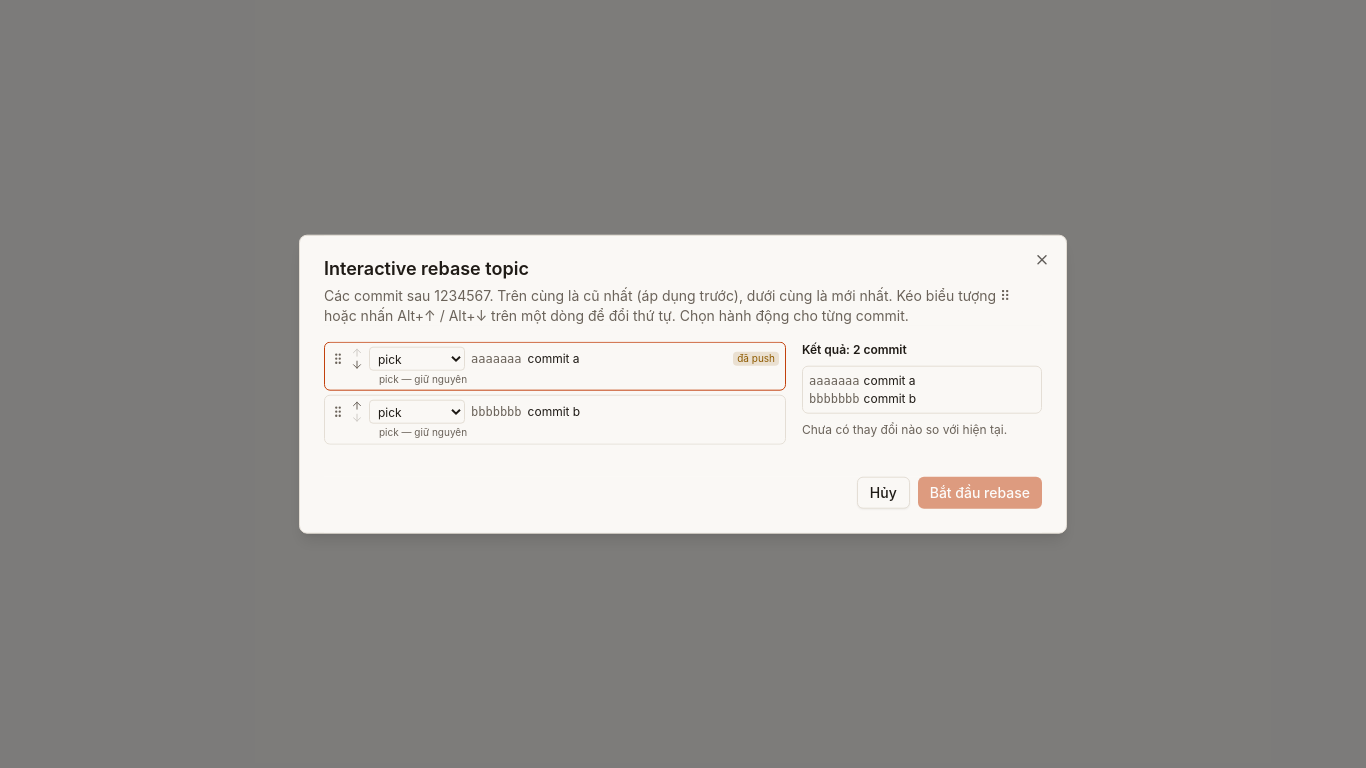
Test: InteractiveRebaseView › blocks squash on the first commit, empty messages and unconfirmed pushed rewrites
Step 1. Select "squash" in the dropdown named "Hành động cho aaaaaaa" → {"x": 417, "y": 359}, box [369, 347, 465, 371]
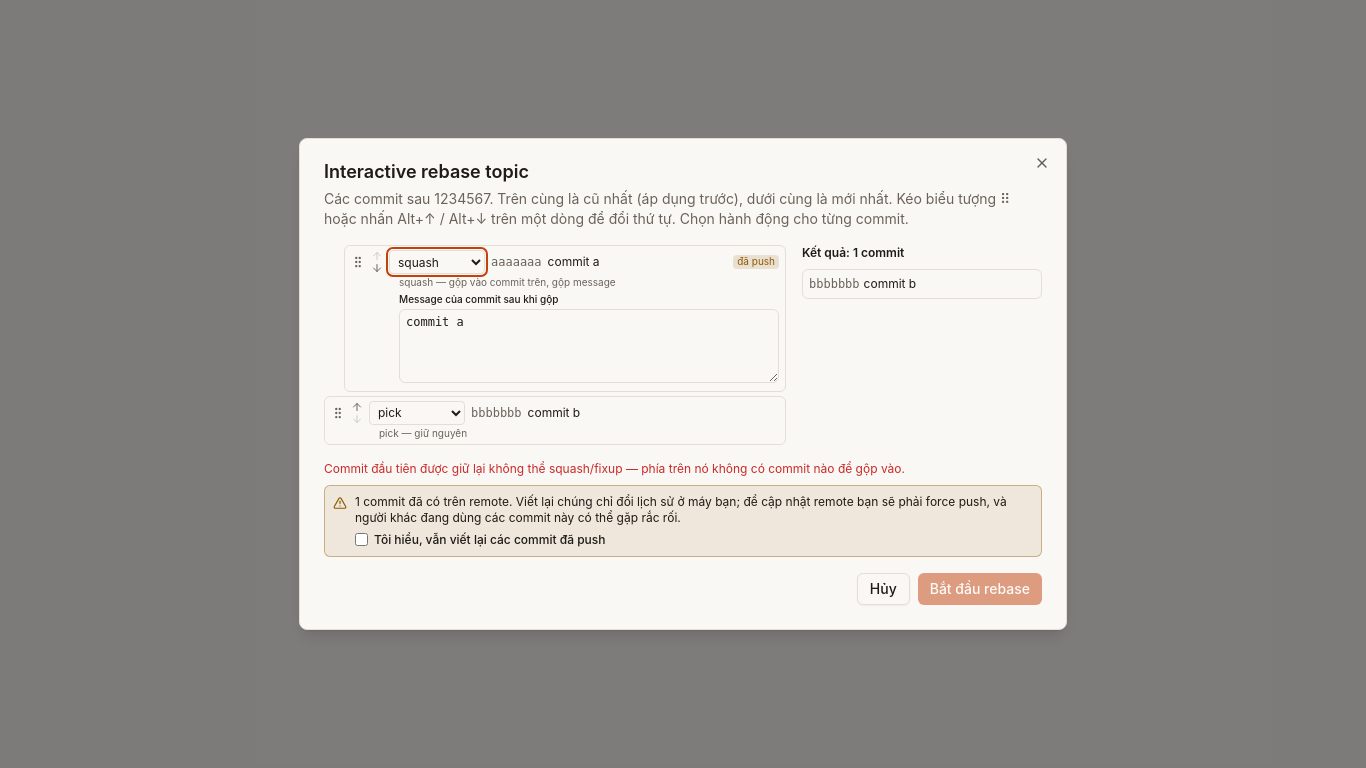
Expected: the button "Bắt đầu rebase" is disabled, [918, 573, 1042, 605]
Expected: the message shows "không thể squash", [324, 461, 905, 476]
Touching the pushed commit asks for confirmation.
Step 2. Select "reword" in the dropdown named "Hành động cho aaaaaaa" → {"x": 437, "y": 262}, box [389, 250, 485, 274]
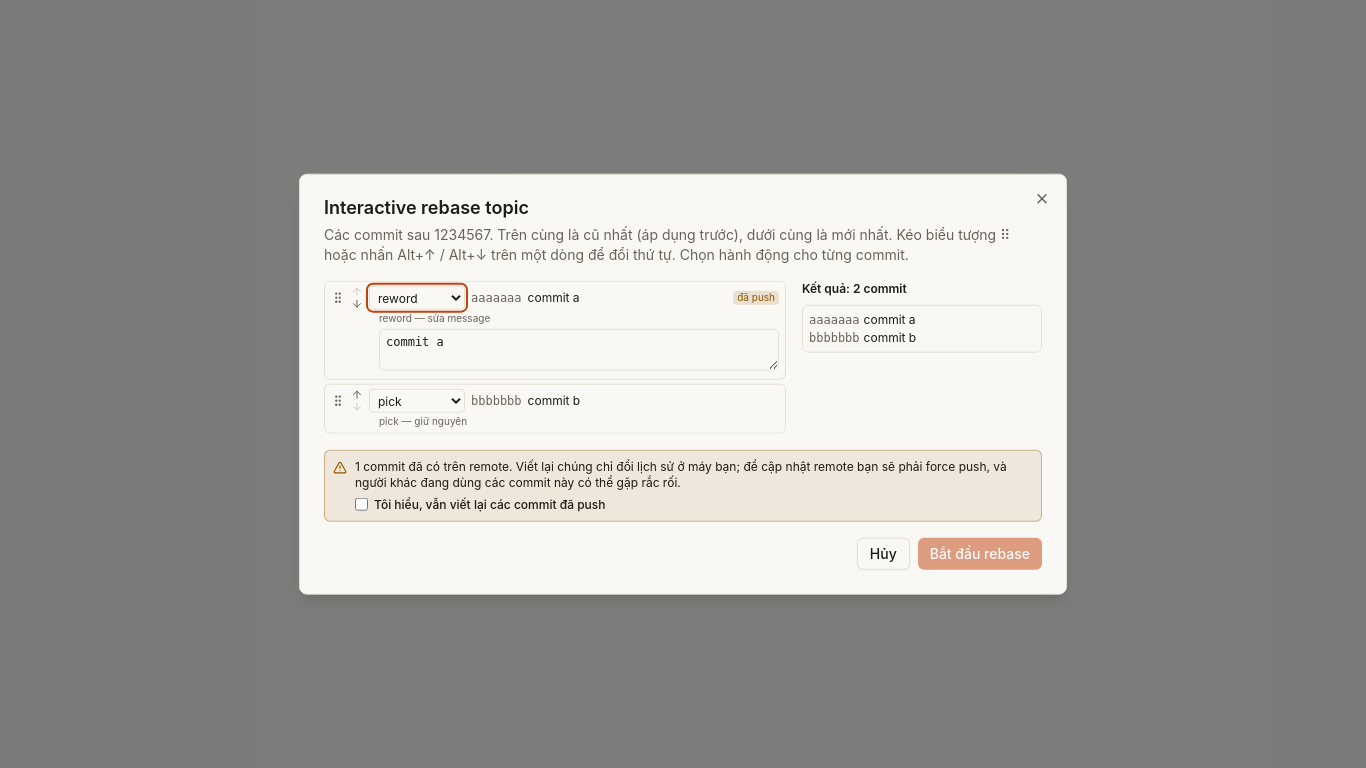
Step 3. Clear the text box named "Message mới cho aaaaaaa" → {"x": 579, "y": 350}, box [379, 329, 779, 371]
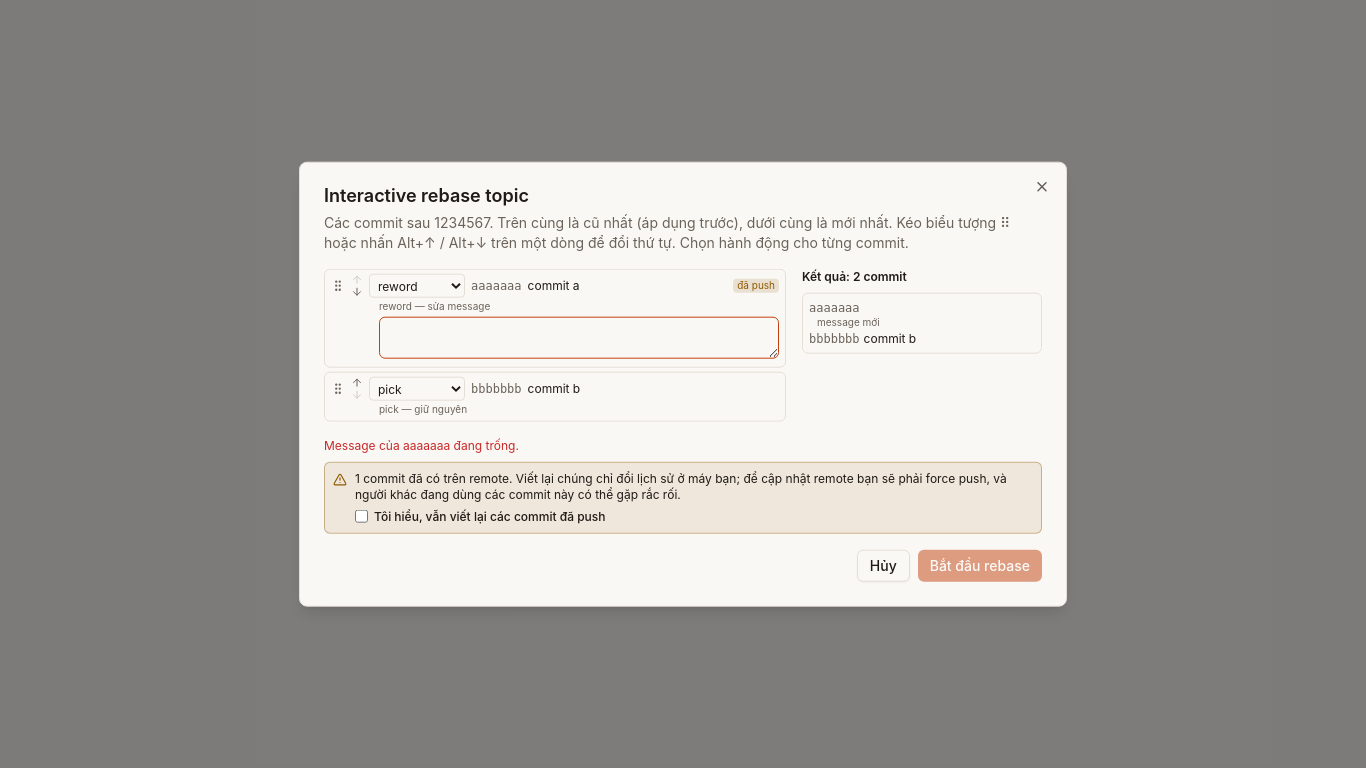
Expected: the message shows "đang trống", [324, 437, 519, 452]
Step 4. Type "A" into the text box named "Message mới cho aaaaaaa" → {"x": 579, "y": 338}, box [379, 317, 779, 359]
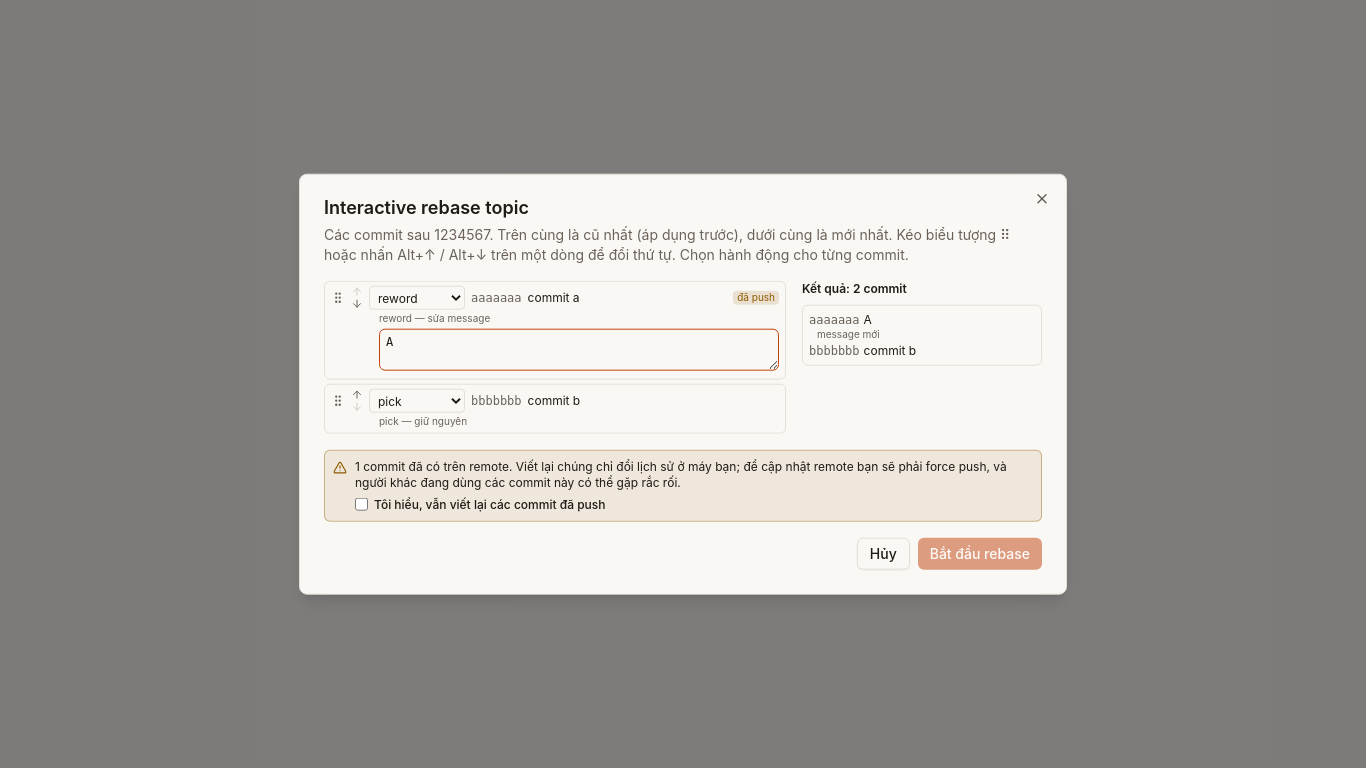
Expected: the button "Bắt đầu rebase" is disabled, [918, 537, 1042, 569]
Expected: the text "đã có trên remote" is shown, [355, 458, 1007, 489]
Step 5. Click the checkbox labelled "Tôi hiểu, vẫn viết lại các commit đã push" → {"x": 362, "y": 504}, box [355, 498, 368, 511]
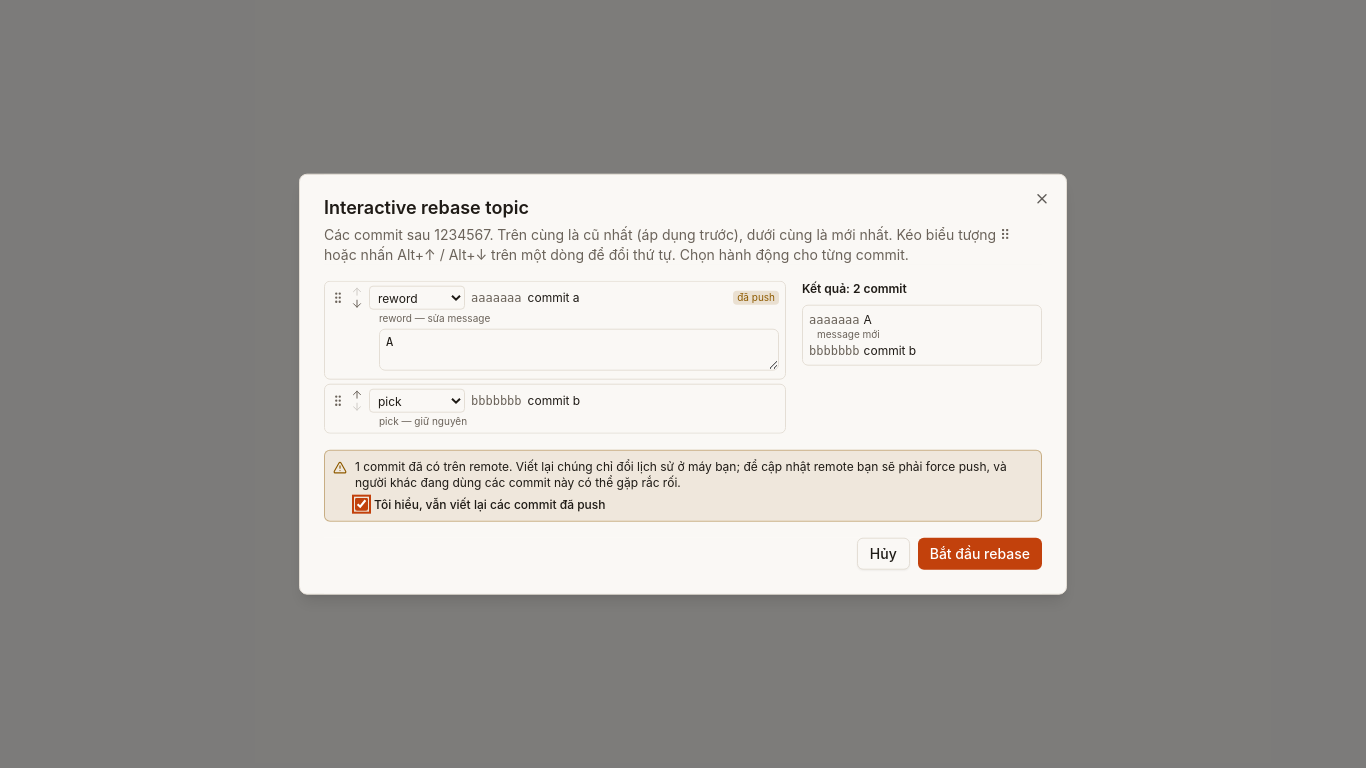
Expected: the button "Bắt đầu rebase" is enabled, [918, 537, 1042, 569]
